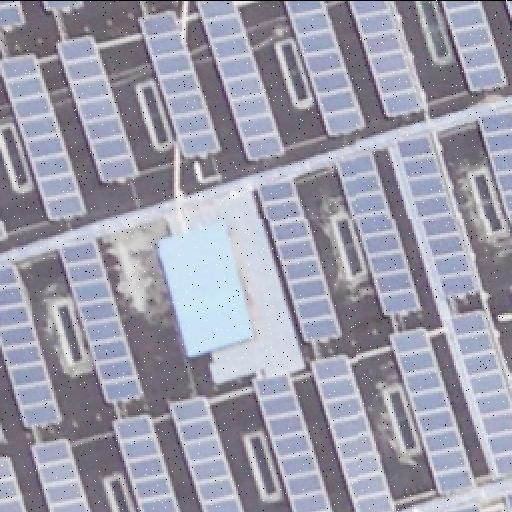solar-panel: (389, 321, 475, 495), (253, 172, 339, 344), (332, 148, 420, 316), (0, 51, 84, 221), (58, 236, 142, 404), (309, 348, 395, 512), (197, 0, 283, 160), (395, 129, 477, 295), (55, 32, 137, 184), (138, 3, 218, 157), (251, 369, 333, 511), (284, 0, 364, 136), (1, 259, 63, 429), (452, 303, 512, 473), (171, 392, 245, 512), (348, 0, 420, 120), (113, 409, 183, 511), (439, 0, 505, 92), (29, 433, 91, 511), (476, 106, 512, 238), (0, 452, 24, 512), (0, 0, 24, 28), (444, 500, 488, 512), (43, 0, 77, 8), (504, 488, 512, 512), (505, 0, 511, 20), (1, 219, 7, 237), (0, 421, 4, 435)
